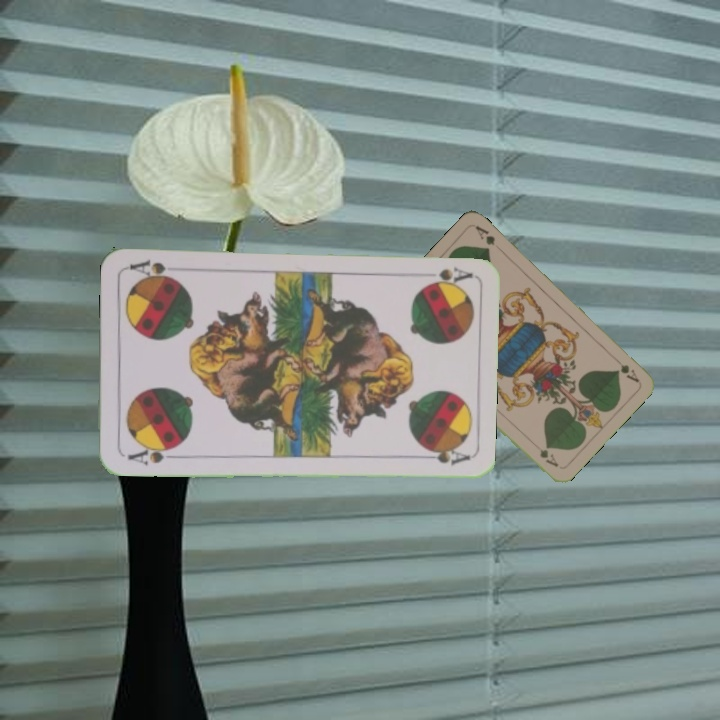GA: (616, 360, 641, 385)
SA: (417, 264, 474, 291), (124, 441, 179, 468)
